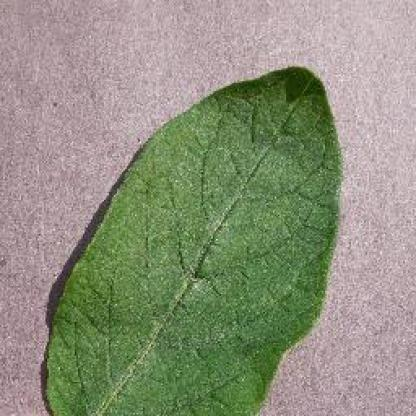bad leaf: (54, 37, 398, 414), (200, 72, 326, 302), (119, 189, 310, 336), (66, 290, 262, 414)
